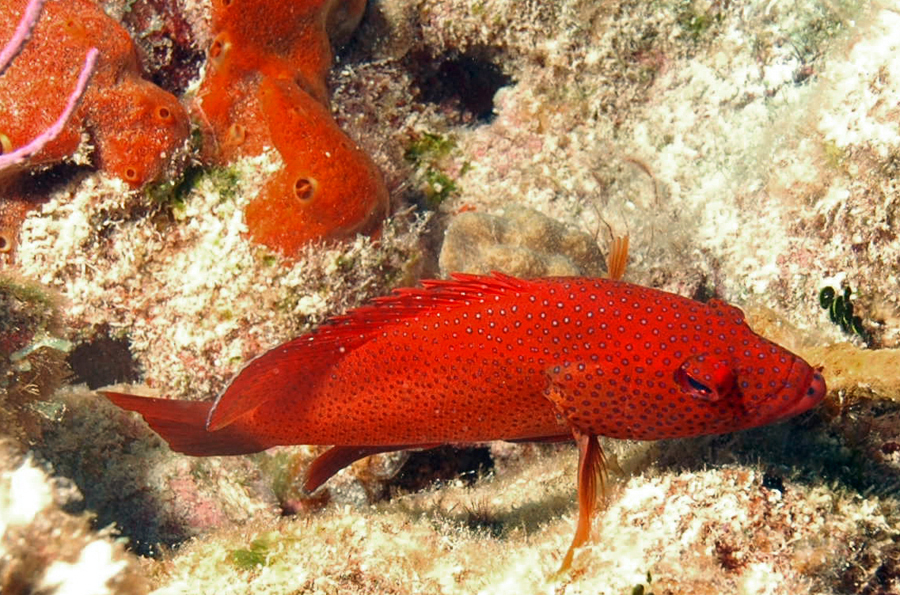Cephalopholis_fulvaw: (96, 247, 813, 516)
